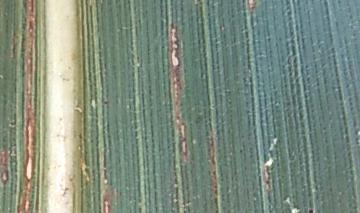tarspot: (101, 98, 112, 107), (305, 207, 316, 213)
